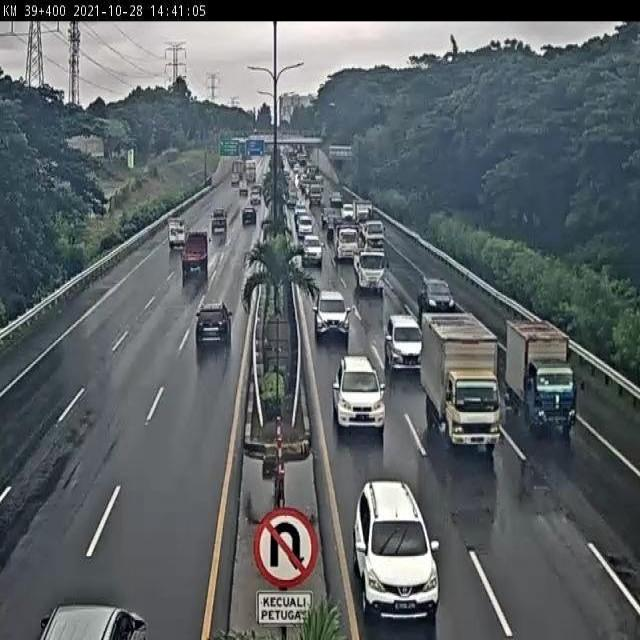Car: (356, 472, 441, 632), (333, 354, 387, 436), (36, 601, 149, 640), (311, 288, 357, 344), (386, 312, 424, 368), (198, 298, 234, 347), (417, 274, 456, 313), (299, 231, 325, 268)
Truck: (420, 309, 502, 453), (506, 322, 576, 442), (181, 230, 209, 286), (353, 249, 386, 296), (245, 160, 256, 183)
